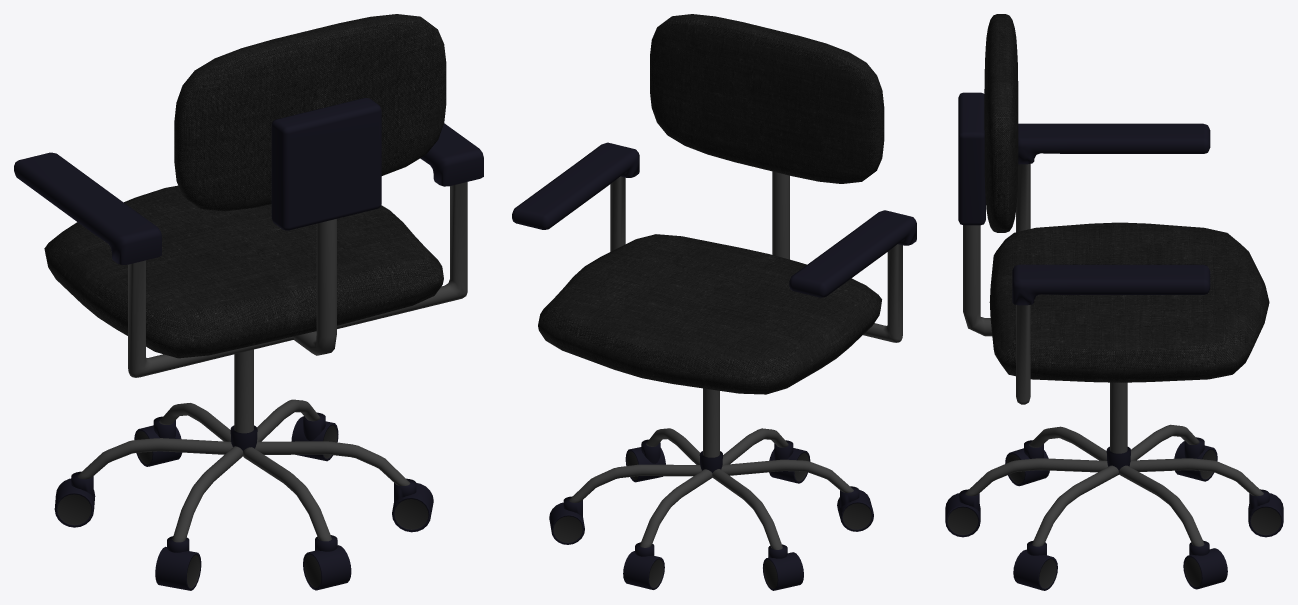
Rendered from Eden_chair.fbx.
3 renders of one model, left to right at view 1: azimuth 30°, elevation 25°; view 2: azimuth 150°, elevation 25°; view 3: azimuth 270°, elevation 25°, orthographic. The views are drawn at different scales.
Parts seen in each view (by area): view 1: Eden_Chair; view 2: Eden_Chair; view 3: Eden_Chair.
Boxes of the visible parts, <box> form: Eden_Chair: <box>14,14,483,590</box>; Eden_Chair: <box>512,14,916,590</box>; Eden_Chair: <box>945,14,1283,590</box>.
Bounding box in the file's own units: 0.0247 × 0.0345 × 0.022.
Materials: 4 (1 with a texture image).
